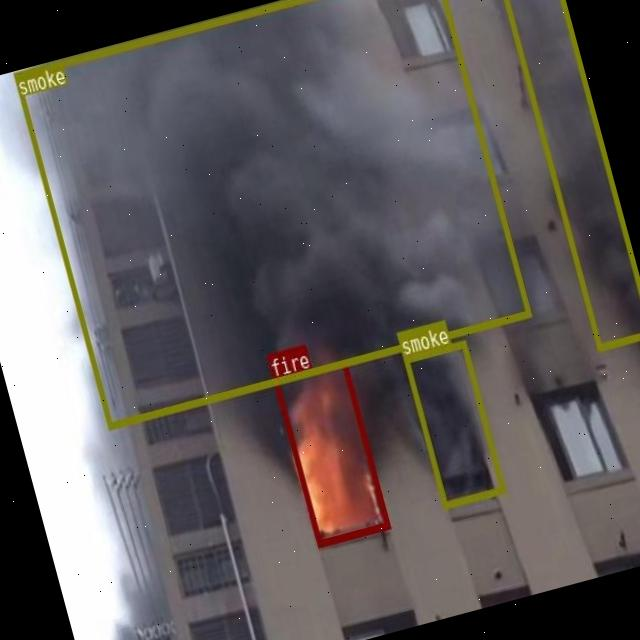fire: (271, 358, 389, 546)
smoke: (13, 0, 530, 429), (495, 0, 640, 348), (402, 340, 504, 508)
